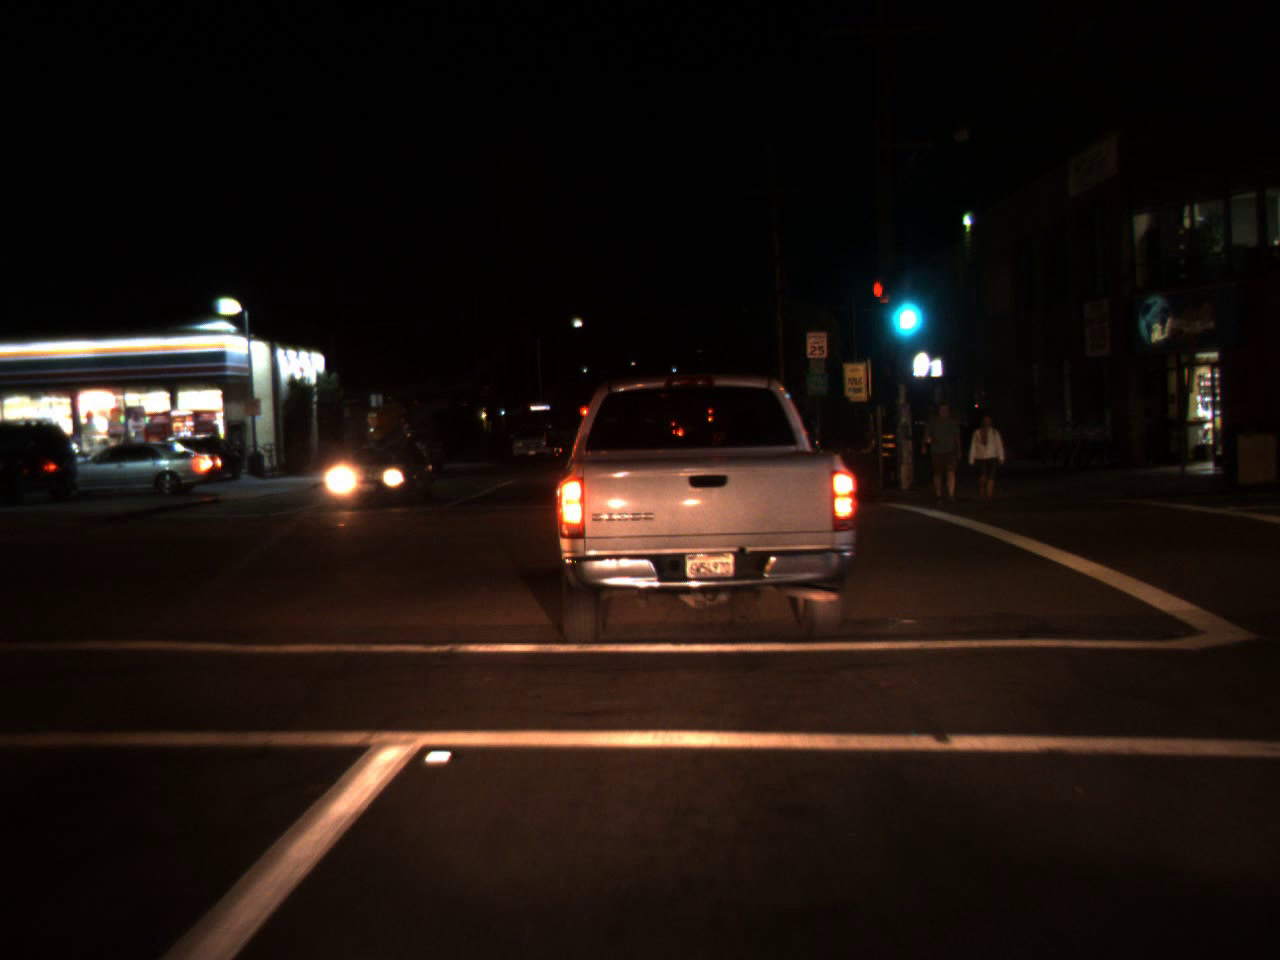go: (884, 266, 929, 344)
stop: (578, 404, 590, 428)
